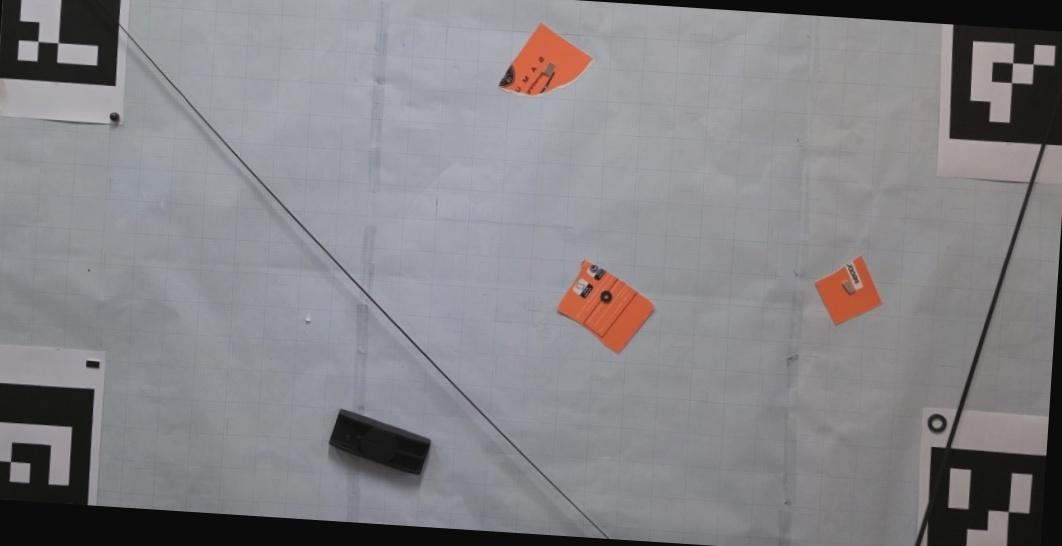obstacle: (557, 261, 655, 354), (328, 408, 432, 476), (498, 23, 593, 97), (814, 254, 883, 326)
